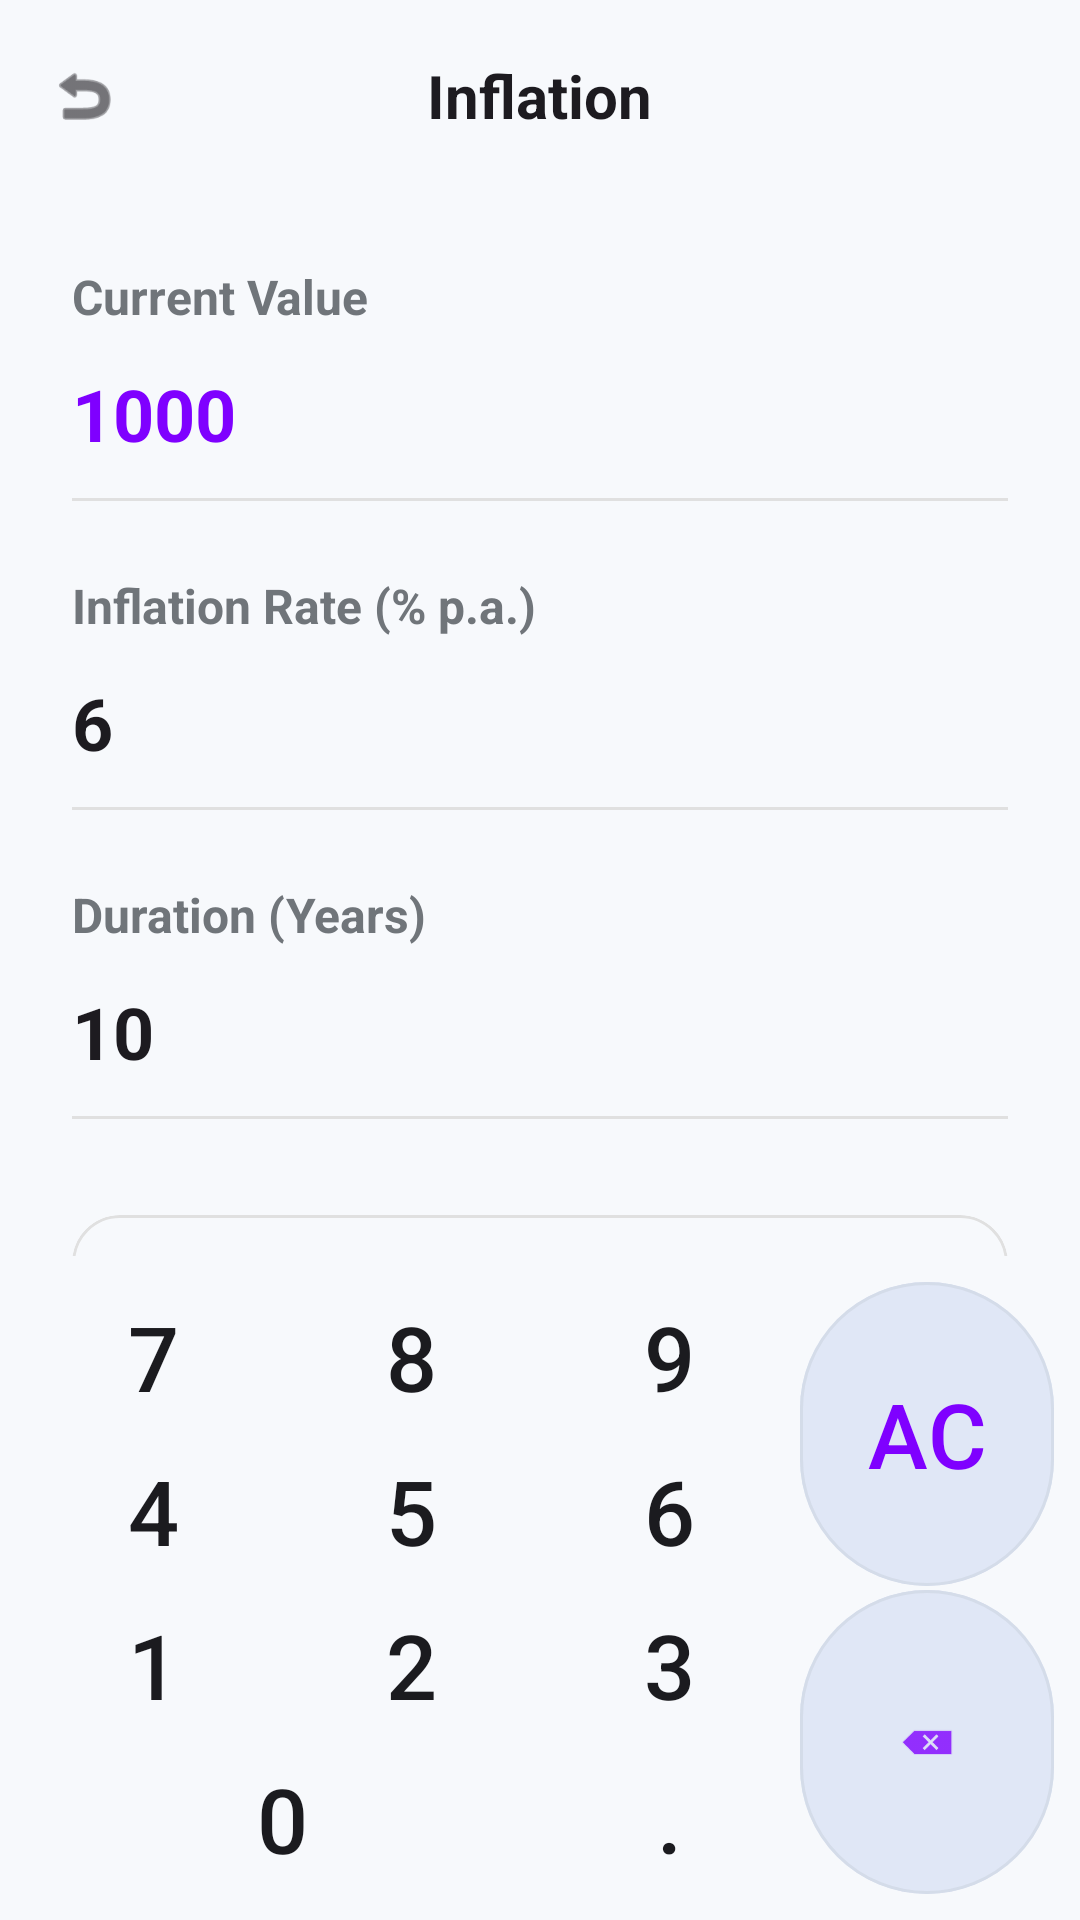

Screen size 1080px×1920px. Icon name, then its box in pixels as BBox(x1, y1, x2, y2):
delete: BBox(800, 1590, 1054, 1894)
revert: BBox(59, 73, 111, 120)
